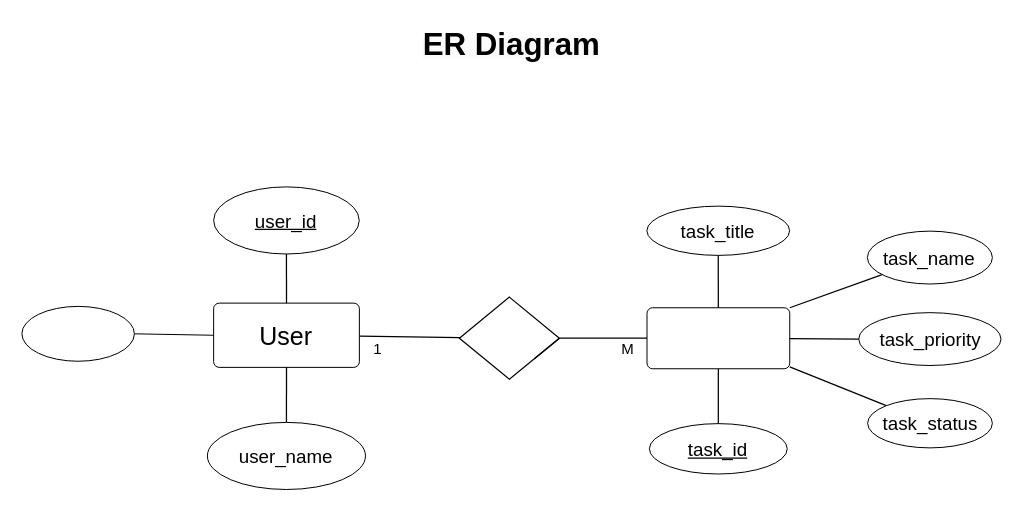
Some shapes in this 1024 by 511 pixel diagram are drawn without their labels. The box of each missing label's shape, as (x1, y1, x2, y2) in pixels:
email: (21, 305, 134, 361)
store: (458, 296, 559, 379)
Task: (646, 307, 790, 369)
